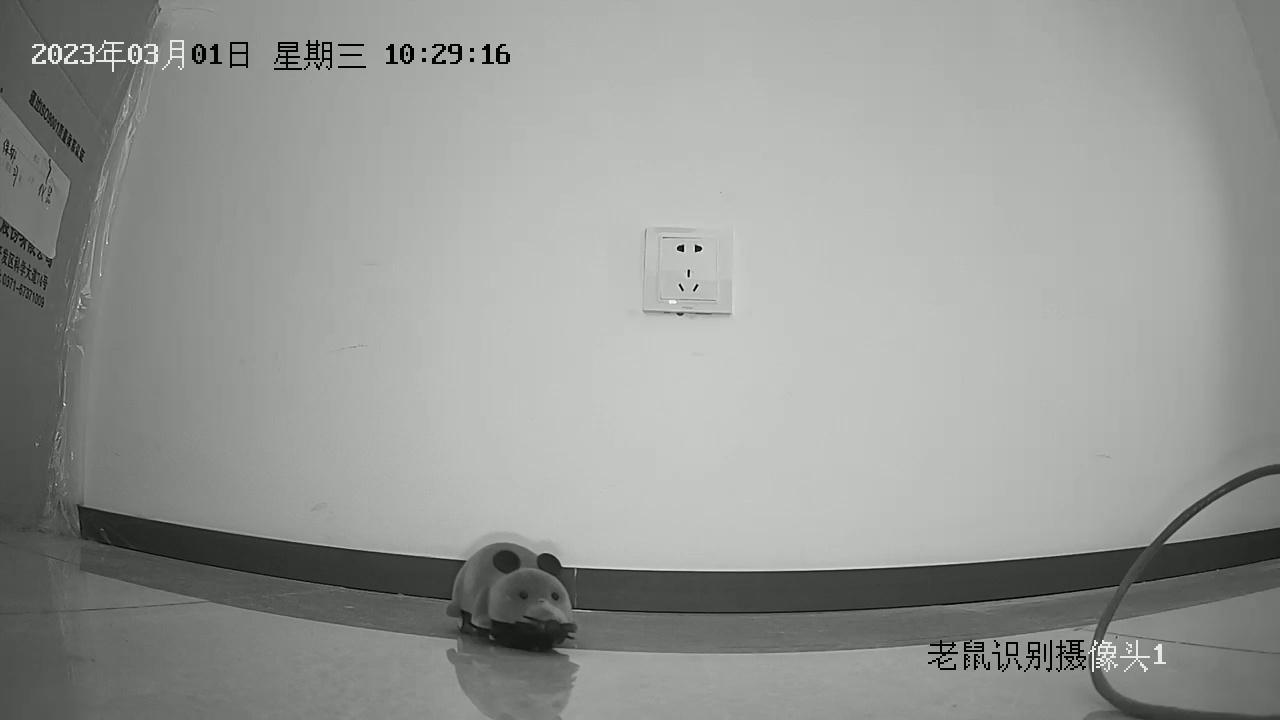rat: (444, 542, 574, 653)
